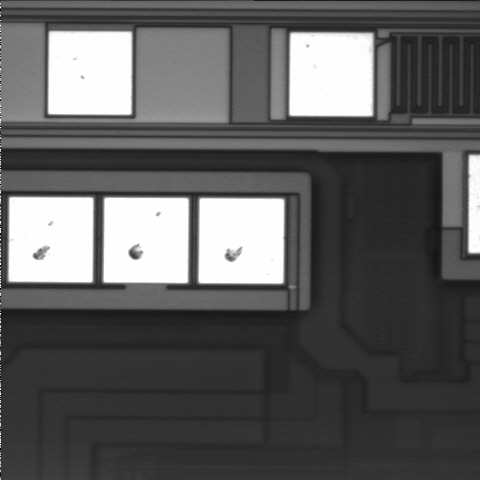pad: (199, 198, 284, 284), (104, 198, 189, 283), (9, 197, 93, 282), (48, 31, 132, 115), (290, 33, 373, 116)
